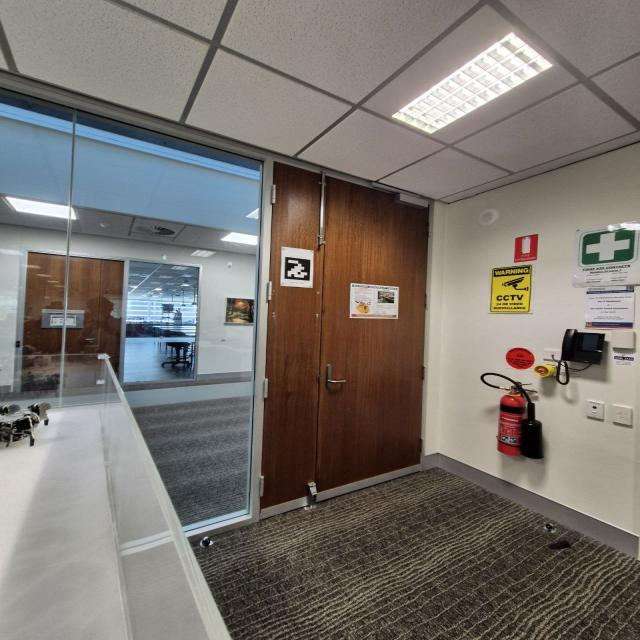doorhandle: (315, 185, 431, 496), (326, 377, 350, 386)
